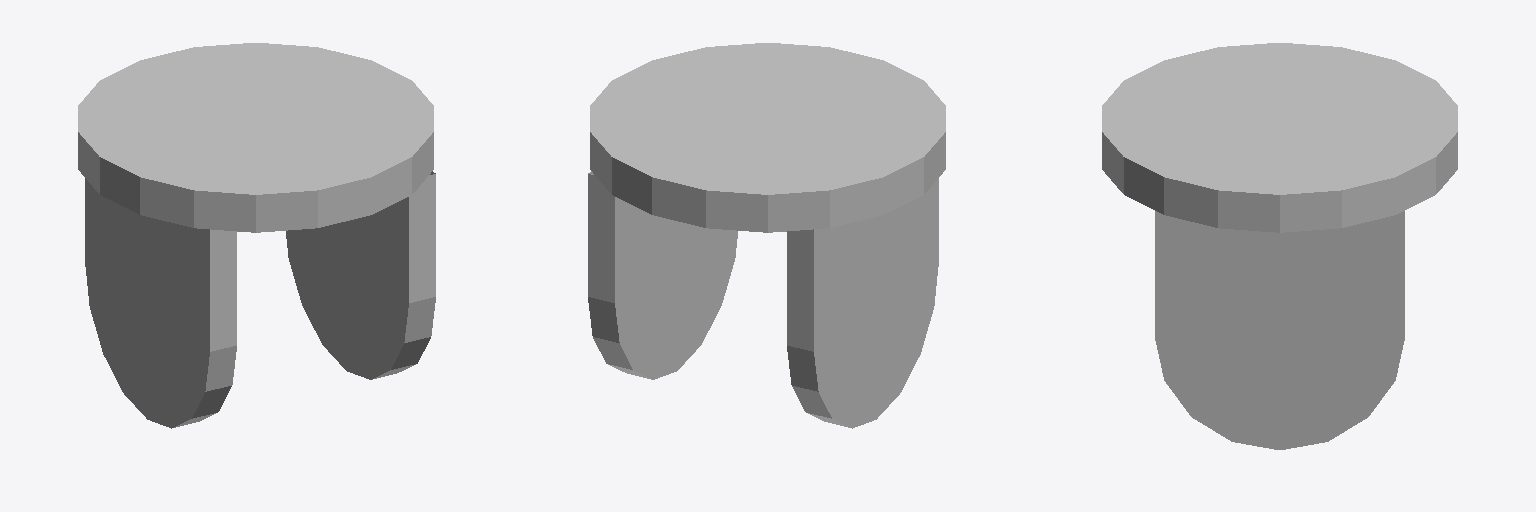
Rendered from rightArm1.obj.
3 views of the same model, side by side, from view 1: azimuth 30°, elevation 25°; view 2: azimuth 150°, elevation 25°; view 3: azimuth 270°, elevation 25° (orthographic).
Parts seen in each view (by area): view 1: unnamed_object1; view 2: unnamed_object1; view 3: unnamed_object1.
Boxes of the visible parts, x1,y1,x2,y2 form: unnamed_object1: [78, 43, 435, 428]; unnamed_object1: [588, 43, 945, 428]; unnamed_object1: [1102, 43, 1457, 449].
Bounding box in the file's own units: 8.64 × 7.25 × 8.51.